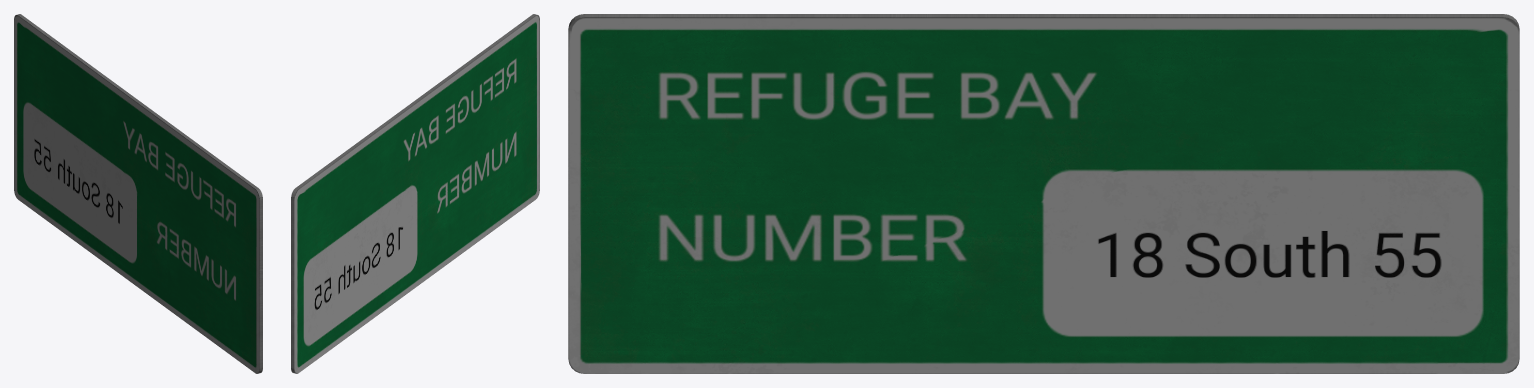
The model's file is Entrance Sign.fbx.
3 views of the same model, side by side, from view 1: azimuth 30°, elevation 25°; view 2: azimuth 150°, elevation 25°; view 3: azimuth 270°, elevation 25° (orthographic). The views are drawn at different scales.
Parts seen in each view (by area): view 1: Inside Parts.002; view 2: Inside Parts.002; view 3: Inside Parts.002.
Boxes of the visible parts, x1,y1,x2,y2 form: Inside Parts.002: (14,14,262,373); Inside Parts.002: (291,14,539,373); Inside Parts.002: (568,14,1519,373).
Size of the model in its own units: 1.11 by 58.72 by 142.
Materials: 1 (1 with a texture image).
